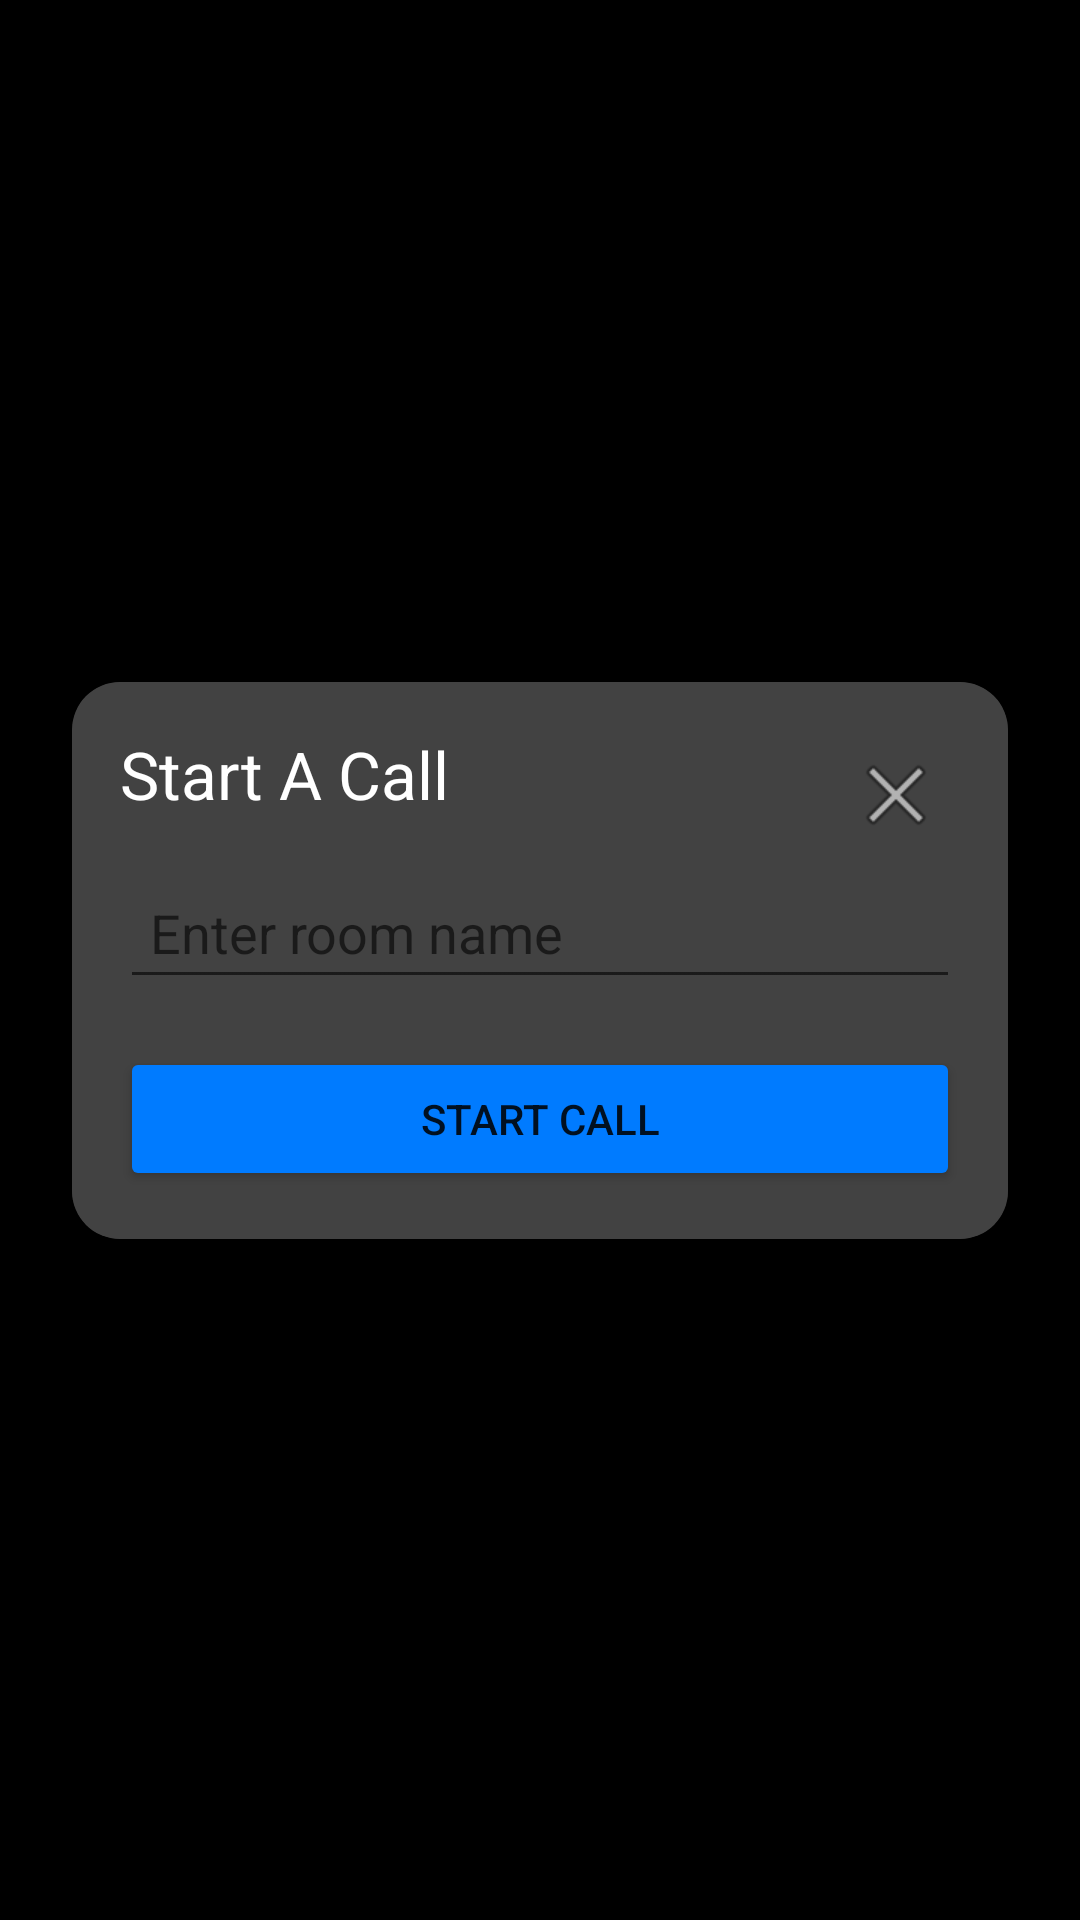

Icon click points for this 1080x1920 phone screenshot, format point (x, y):
close clear cancel: point (896, 795)
